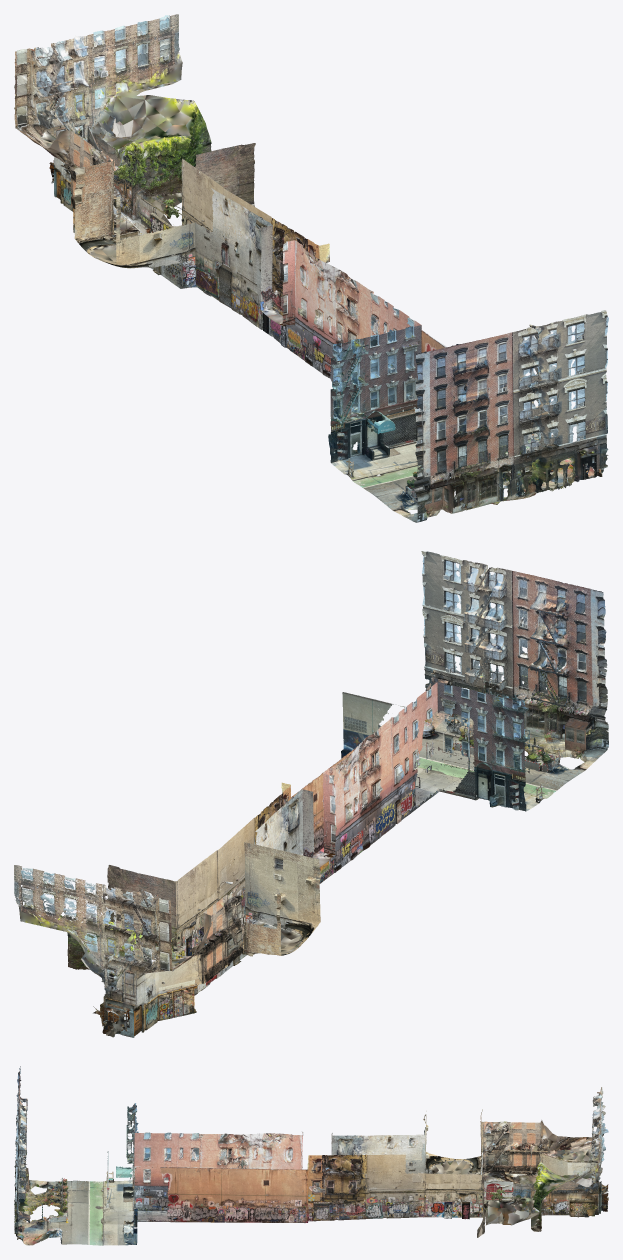
File: alley_opt.glb
3 views of the same model, one above another, from view 1: azimuth 30°, elevation 25°; view 2: azimuth 150°, elevation 25°; view 3: azimuth 270°, elevation 25° (orthographic). The views are drawn at different scales.
Parts seen in each view (by area): view 1: Object_12, Object_8, Object_22, Object_18, Object_2, Object_10, Object_6, Object_13, Object_16, Object_20, Object_15, Object_4; view 2: Object_12, Object_16, Object_10, Object_8, Object_22, Object_2, Object_18, Object_13, Object_4, Object_6, Object_20, Object_15; view 3: Object_16, Object_4, Object_22, Object_18, Object_2, Object_20, Object_6, Object_8, Object_13, Object_12, Object_15, Object_10.
Part boxes in pixels (x1=…): Object_12: x1=28, y1=14, x2=366, y2=342; Object_8: x1=212, y1=231, x2=608, y2=458; Object_22: x1=49, y1=120, x2=421, y2=372; Object_18: x1=188, y1=213, x2=608, y2=509; Object_2: x1=260, y1=294, x2=607, y2=459; Object_10: x1=51, y1=172, x2=483, y2=522; Object_6: x1=28, y1=15, x2=552, y2=452; Object_13: x1=128, y1=185, x2=412, y2=485; Object_16: x1=14, y1=48, x2=512, y2=505; Object_20: x1=65, y1=141, x2=434, y2=445; Object_15: x1=49, y1=115, x2=421, y2=453; Object_4: x1=113, y1=193, x2=601, y2=508; Object_12: x1=14, y1=722, x2=388, y2=978; Object_16: x1=157, y1=692, x2=579, y2=983; Object_10: x1=98, y1=580, x2=608, y2=1037; Object_8: x1=230, y1=551, x2=555, y2=917; Object_22: x1=67, y1=682, x2=528, y2=1037; Object_2: x1=303, y1=551, x2=555, y2=883; Object_18: x1=183, y1=659, x2=556, y2=924; Object_13: x1=170, y1=714, x2=553, y2=977; Object_4: x1=155, y1=665, x2=555, y2=962; Object_6: x1=18, y1=704, x2=468, y2=967; Object_20: x1=118, y1=700, x2=474, y2=1008; Object_15: x1=81, y1=782, x2=474, y2=1033; Object_16: x1=52, y1=1087, x2=605, y2=1244; Object_4: x1=14, y1=1151, x2=522, y2=1241; Object_22: x1=127, y1=1103, x2=608, y2=1237; Object_18: x1=14, y1=1132, x2=473, y2=1245; Object_2: x1=15, y1=1092, x2=340, y2=1222; Object_20: x1=127, y1=1148, x2=565, y2=1224; Object_6: x1=55, y1=1091, x2=608, y2=1245; Object_8: x1=15, y1=1084, x2=406, y2=1220; Object_13: x1=92, y1=1122, x2=487, y2=1220; Object_12: x1=207, y1=1091, x2=608, y2=1199; Object_15: x1=126, y1=1149, x2=608, y2=1227; Object_10: x1=14, y1=1066, x2=607, y2=1231.
Bounding box in the file's own units: 12.87 × 11.22 × 50.55.
12 materials, 12 textured.
